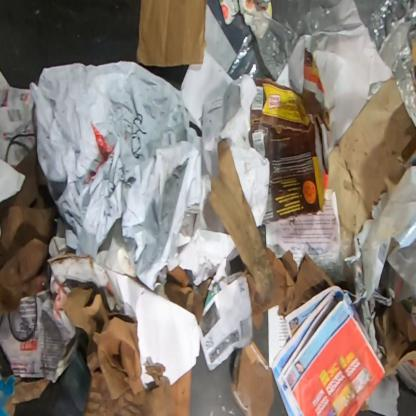cardboard: (48, 252, 202, 390), (63, 287, 194, 415), (327, 76, 416, 236), (0, 143, 57, 321), (136, 0, 207, 67), (229, 339, 275, 415), (374, 300, 416, 376), (164, 266, 212, 325), (0, 374, 51, 415)
soft_plastic: (227, 0, 415, 129), (249, 51, 330, 227)
